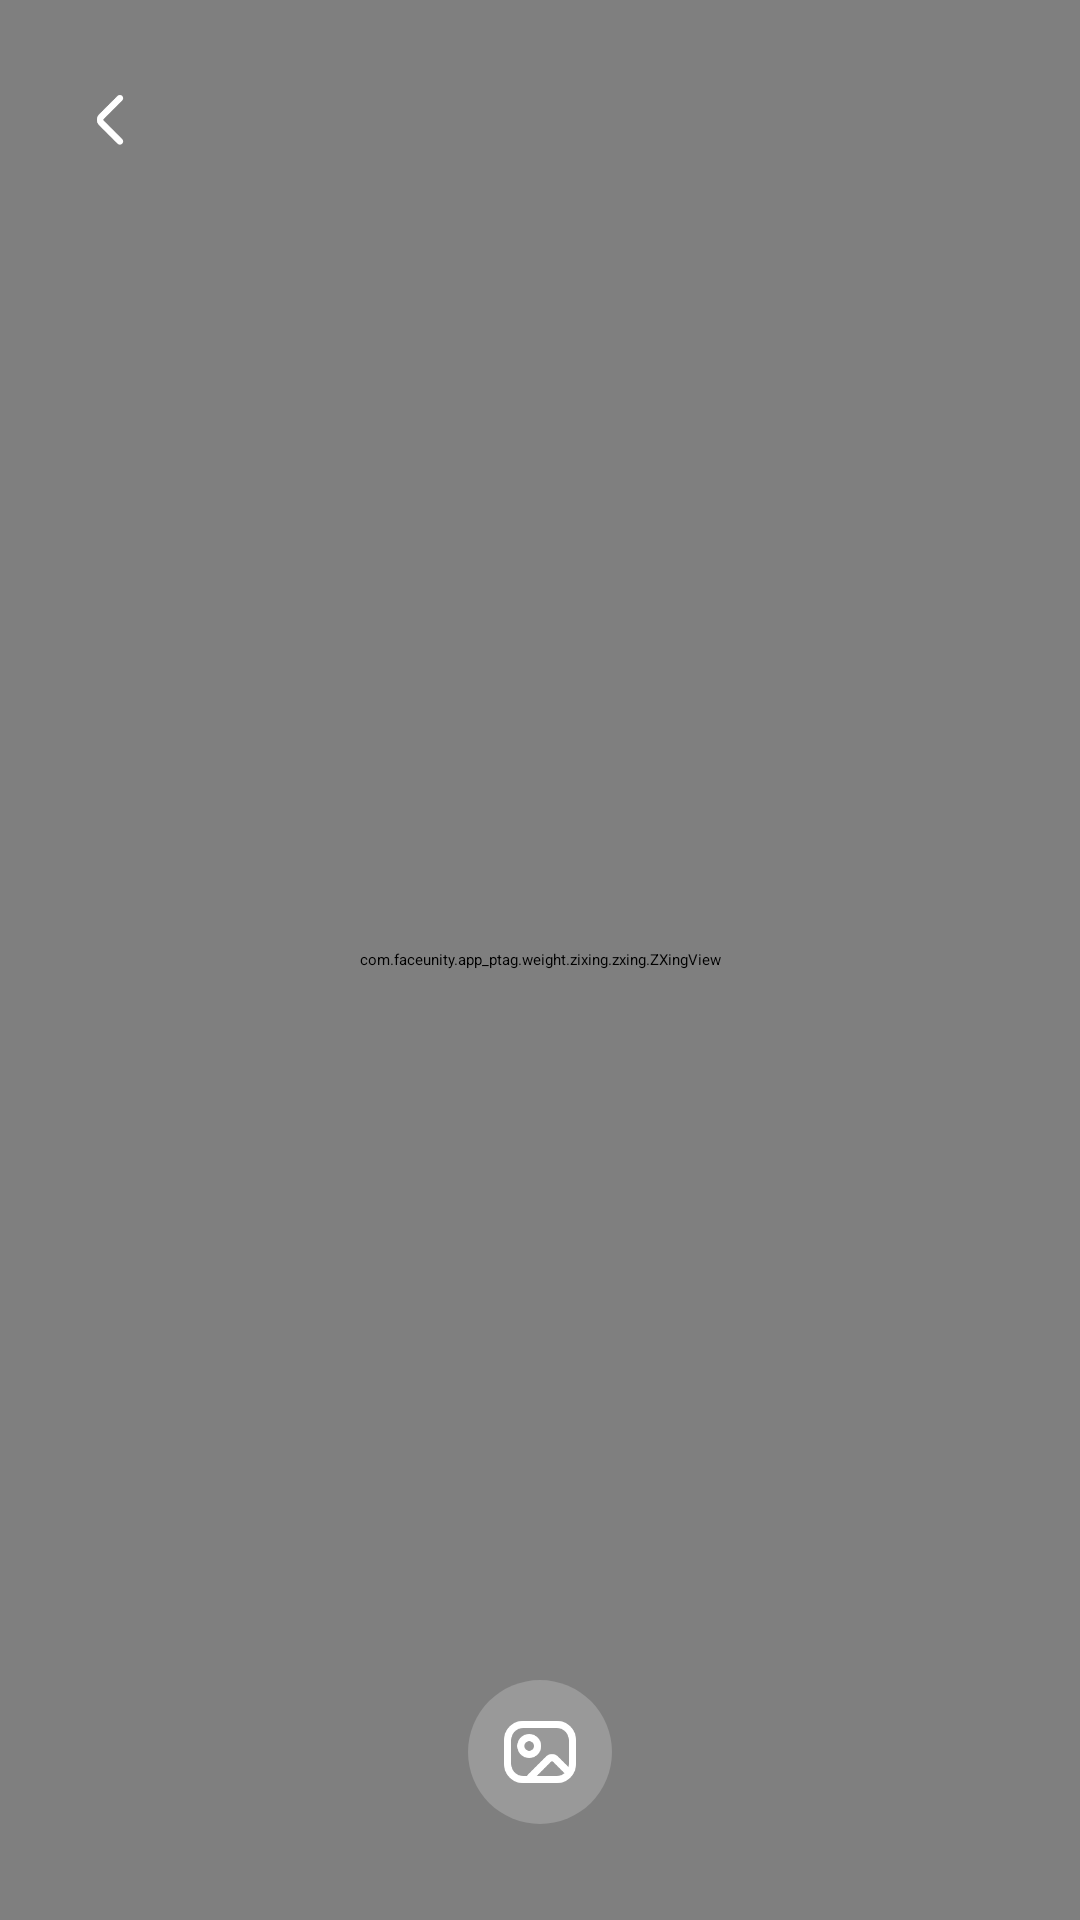

Named icons in this screenshot (1080px×1920px) and their centers, (x=x, y=y):
navbar backarrow: (x=110, y=120)
shooting album: (x=540, y=1752)
